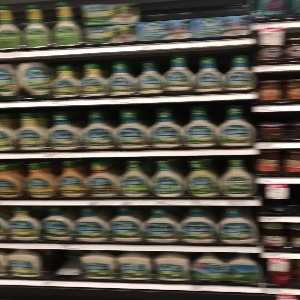void: (46, 250, 82, 277)
